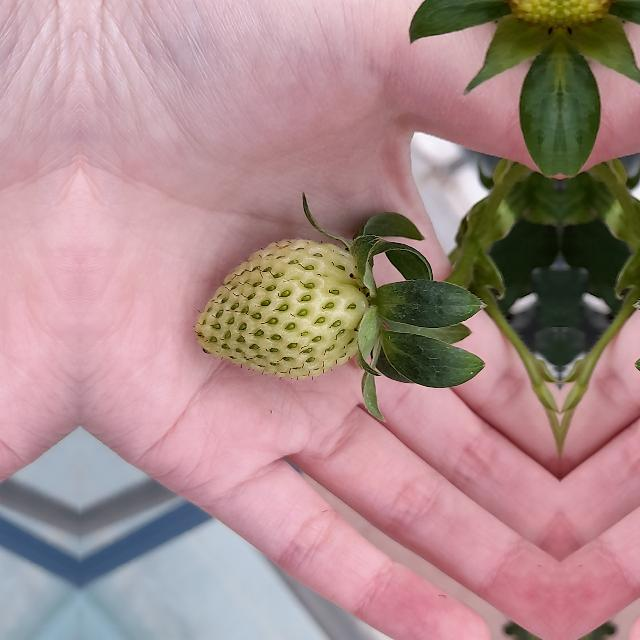Health_25: (196, 238, 368, 378)
